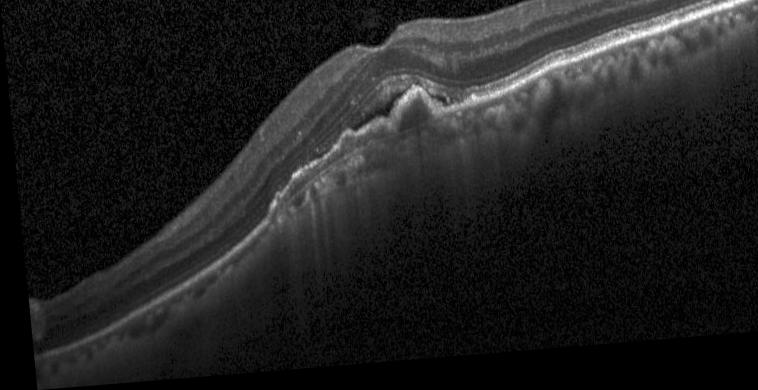neuroepithelium_detachment: (349, 91, 408, 136), (427, 103, 455, 113)
retinal_drusen: (266, 125, 388, 222), (393, 99, 428, 139)
